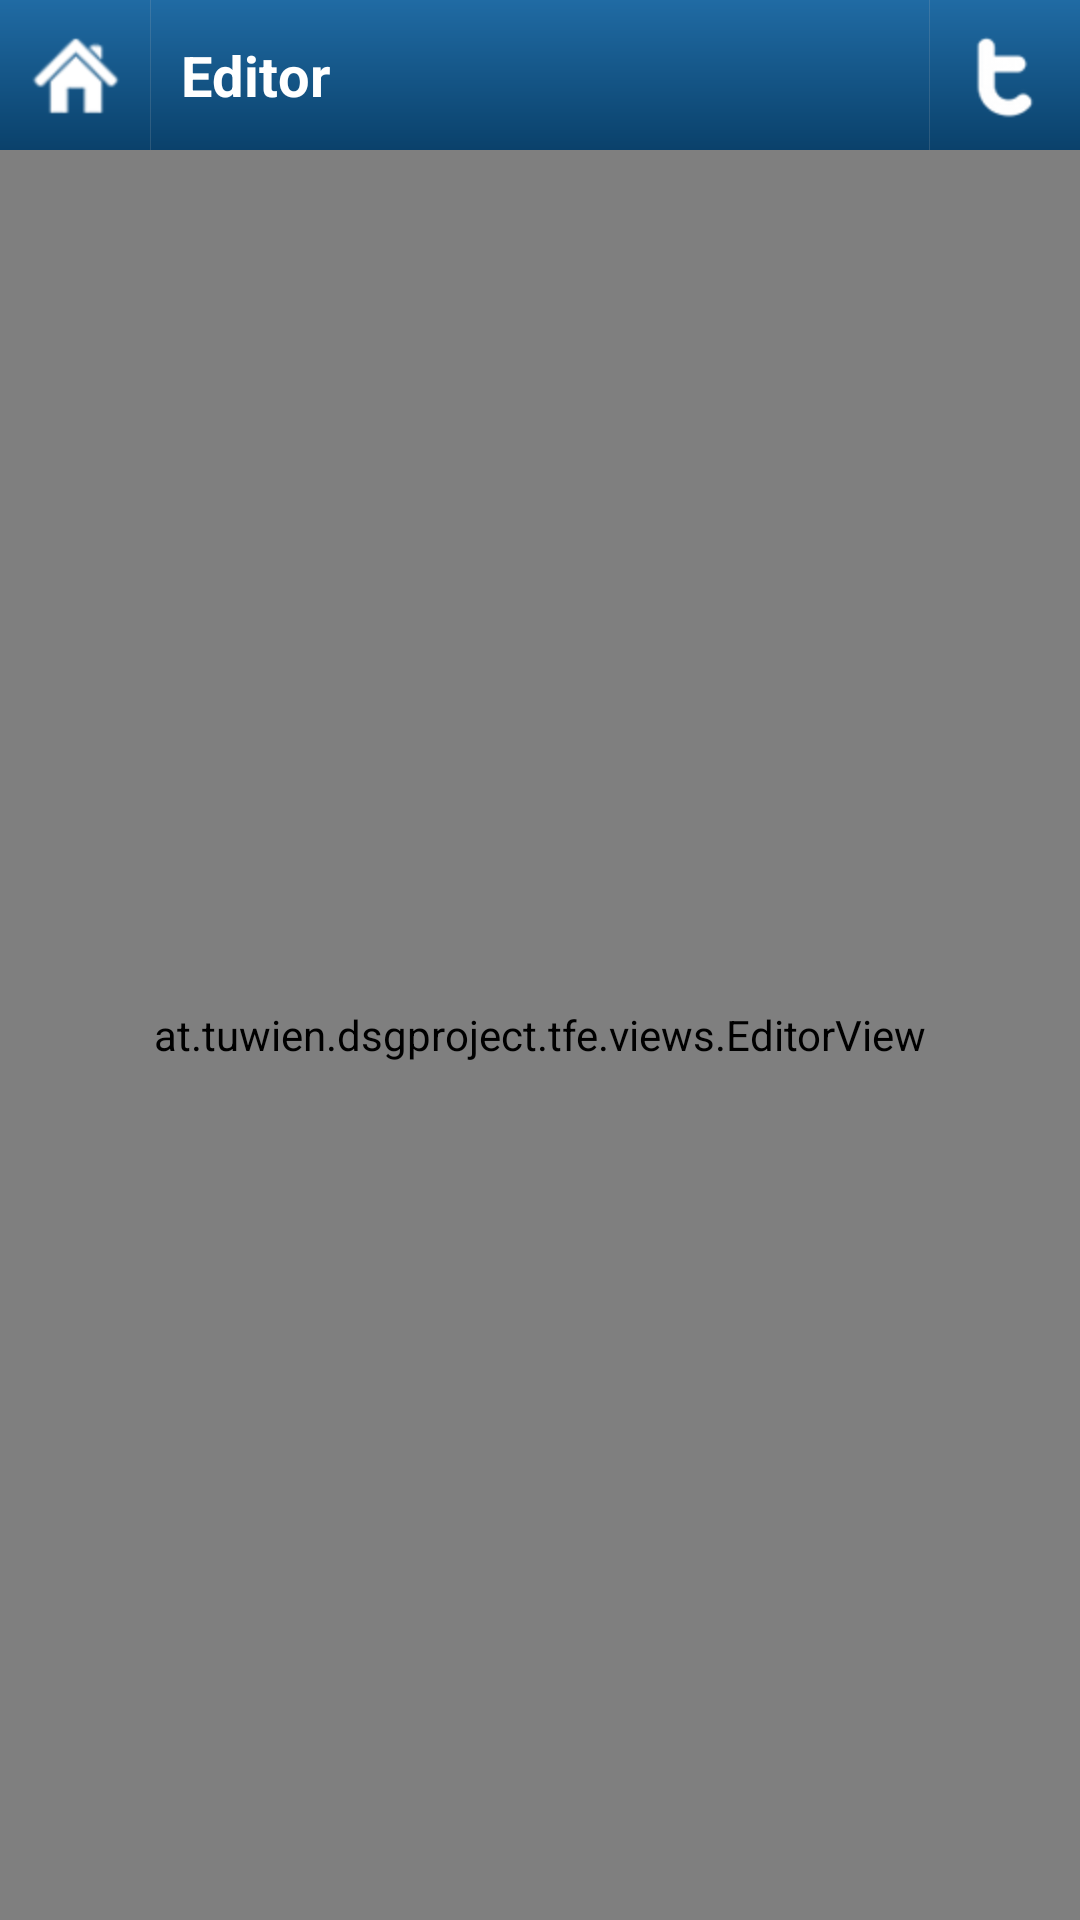

Where to tap for icons on this 1080*1920 app screen, as (x=x, y=y):
home: (x=75, y=75)
